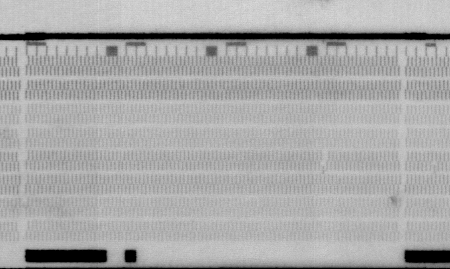Broken hole: (320, 149, 331, 162)
Oblique printing: (317, 161, 330, 175), (429, 162, 439, 176)
